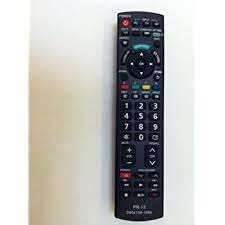remote control: (112, 8, 172, 225)
